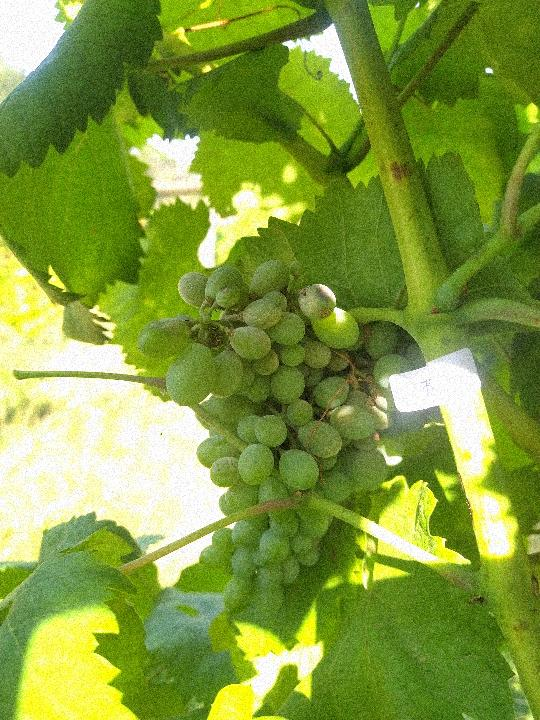grape: (130, 251, 431, 621)
